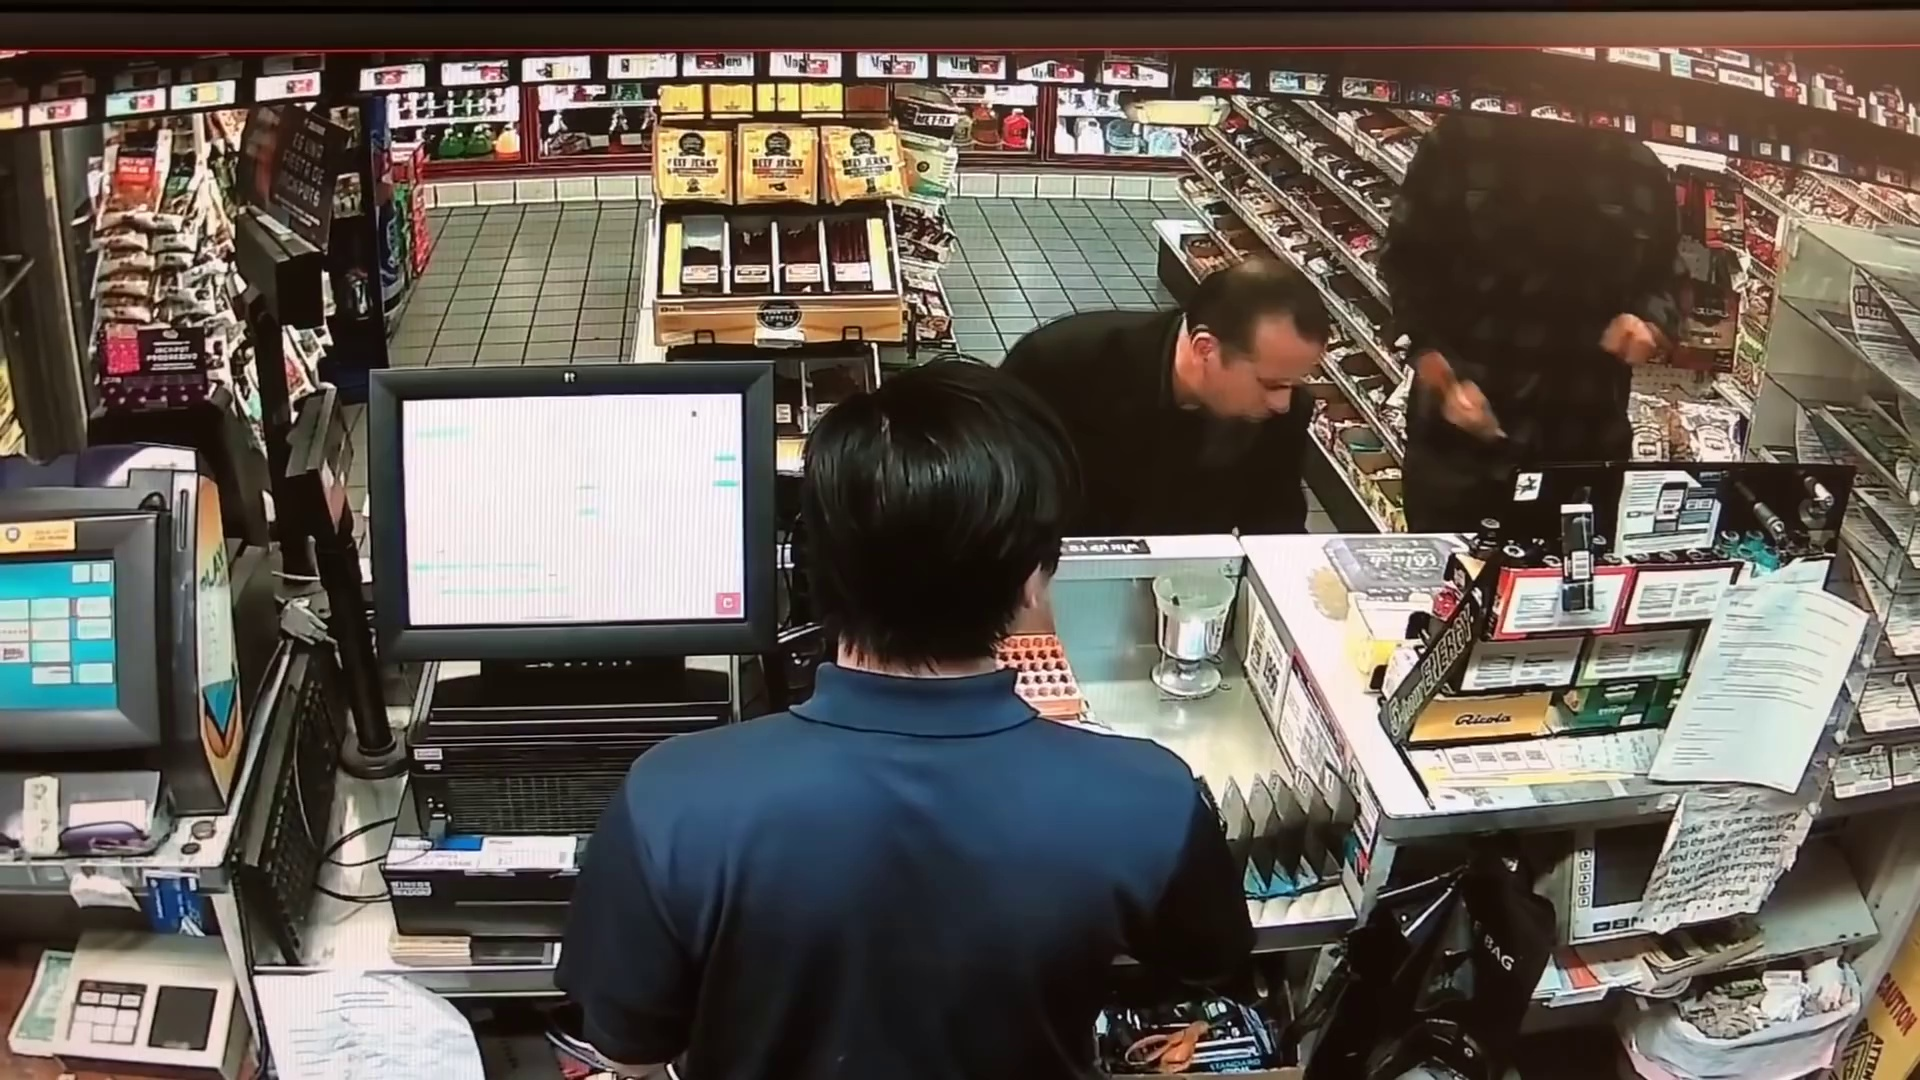face: (1222, 298, 1329, 424)
